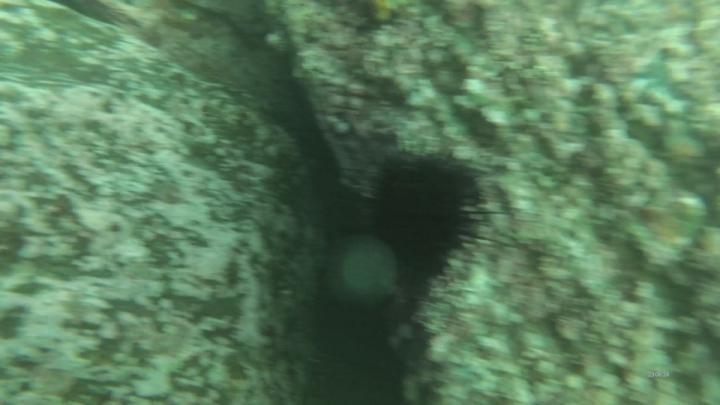echinus: (370, 150, 480, 283)
